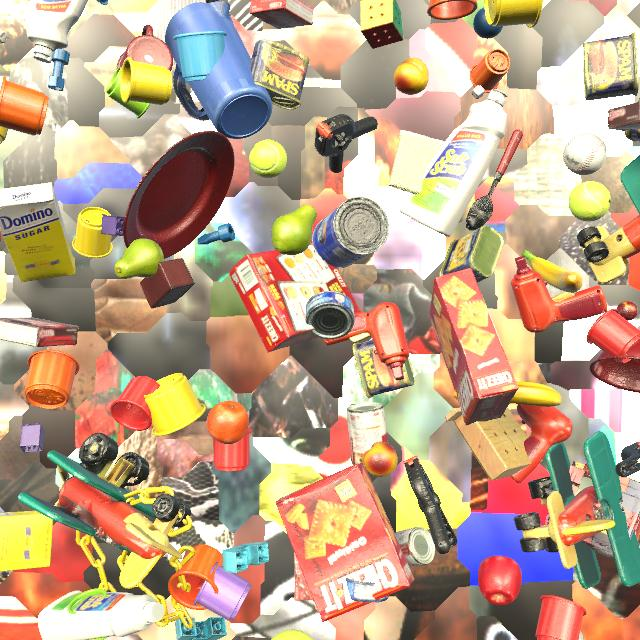ycb_002_master_chef_can: (312, 197, 389, 268)
ycb_003_cracker_box: (275, 463, 414, 622), (229, 245, 361, 353), (428, 268, 518, 425)
ycb_004_sugar_box: (0, 183, 75, 282), (0, 511, 53, 572)
ycb_005_tomato_soup_can: (347, 402, 387, 467), (394, 527, 435, 567), (579, 630, 585, 640)
ycb_007_tuna_fish_can: (305, 291, 355, 340), (345, 578, 389, 603)
ycb_008_pudding_box: (0, 318, 79, 347), (608, 102, 640, 131)
ycb_009_gelatin_box: (249, 0, 313, 29), (294, 553, 314, 601)
ycb_010_potted_meat_can: (250, 39, 309, 110), (583, 32, 639, 101), (439, 225, 504, 283), (352, 340, 414, 398), (625, 98, 640, 142)
ycb_011_banana: (453, 381, 562, 407), (522, 250, 583, 293)
ycb_013_apple: (478, 555, 522, 605)
ycb_015_peach: (394, 58, 429, 95), (362, 442, 397, 477)
ycb_016_pear: (271, 204, 317, 255), (114, 238, 164, 278), (639, 583, 640, 584)
ycb_017_orange: (207, 401, 249, 444)
